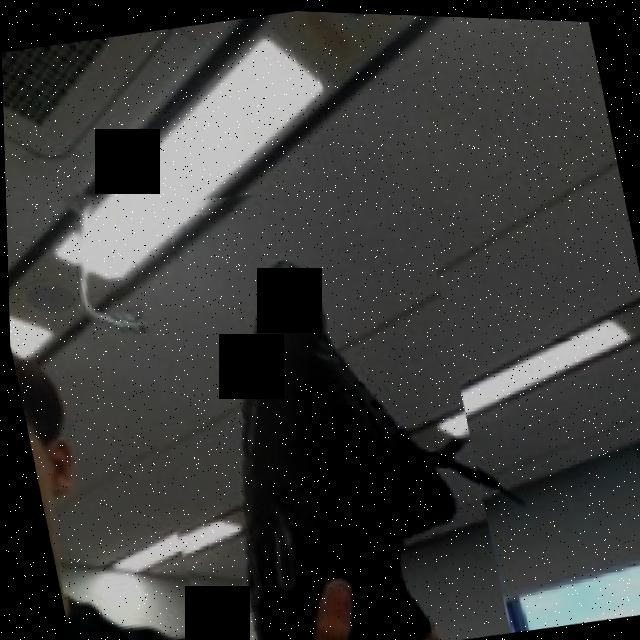shoe: (89, 150, 507, 640)
